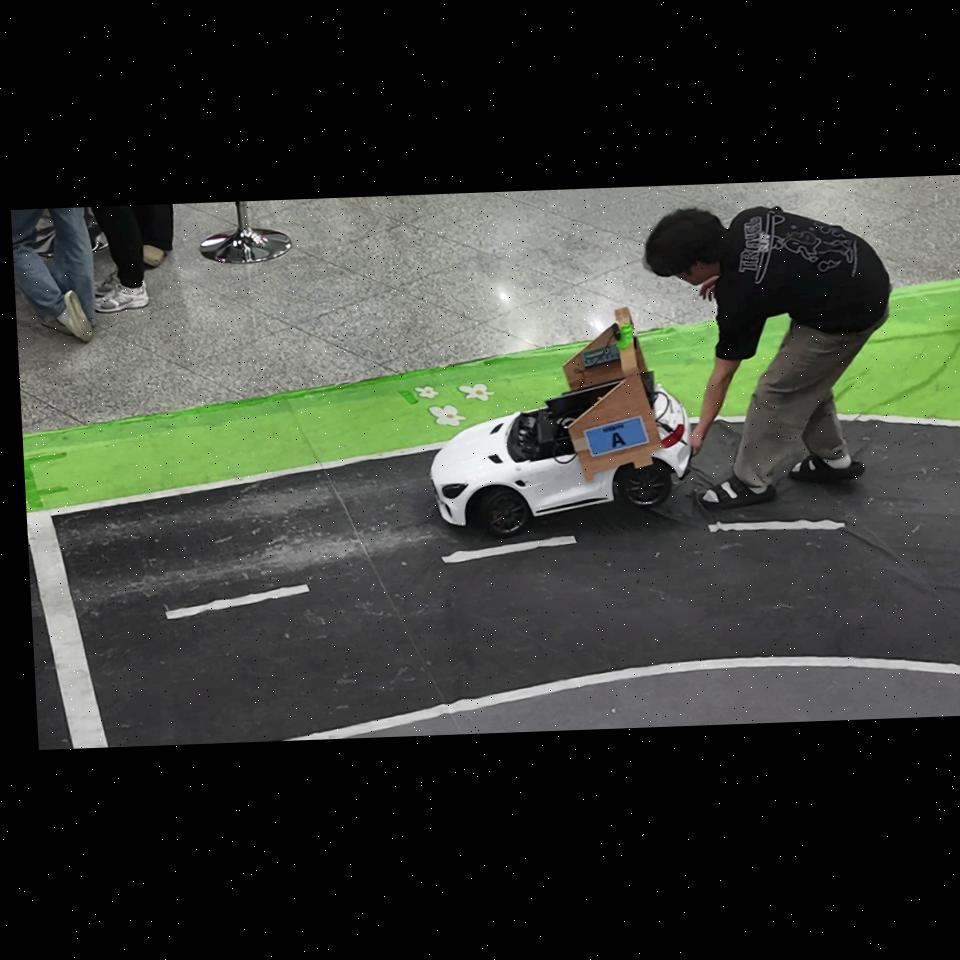broken_line: (166, 584, 309, 619), (441, 535, 577, 563), (708, 519, 845, 532)
